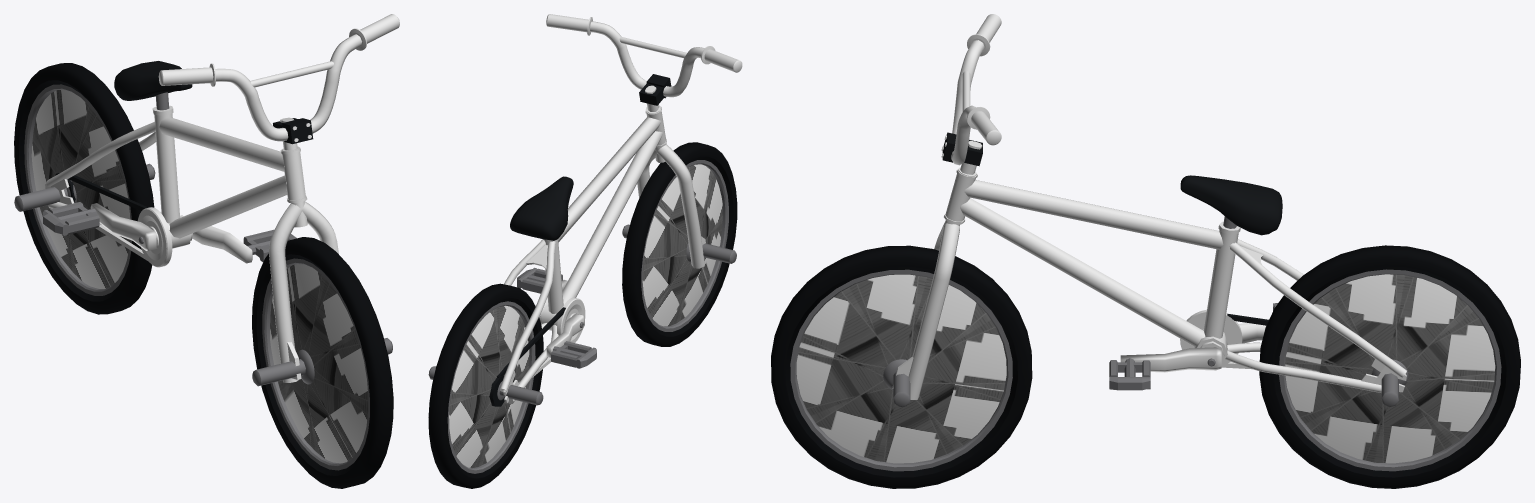
File: bmx1.fbx
3 renders of one model, left to right at view 1: azimuth 30°, elevation 25°; view 2: azimuth 150°, elevation 25°; view 3: azimuth 270°, elevation 25°, orthographic. The views are drawn at different scales.
Parts seen in each view (by area): view 1: spokes, spokes_4, tyre, tyre_2, forks_2, Spline_sweep, rim_2, rim, downtube, crosstube, seattube, seat (+13 smaller); view 2: spokes_4, spokes, tyre, tyre_2, downtube, seat, crosstube, forks_2, rim, Spline_sweep_3, Spline_sweep, rim_2 (+12 smaller); view 3: spokes, spokes_3, tyre_2, tyre, downtube, crosstube, rim, rim_2, seat, forks_2, Spline_sweep_3, seattube (+7 smaller).
Boxes of the visible parts, box(x1,y1,x2,y2) form: spokes: box(270, 264, 368, 463); spokes_4: box(31, 90, 130, 288); tyre: box(252, 237, 393, 488); tyre_2: box(14, 63, 154, 314); forks_2: box(269, 201, 338, 382); Spline_sweep: box(215, 34, 361, 141); rim_2: box(24, 84, 131, 295); rim: box(262, 258, 369, 470); downtube: box(169, 175, 287, 238); crosstube: box(159, 117, 284, 171); seattube: box(152, 105, 180, 223); seat: box(114, 61, 192, 100); spokes_4: box(449, 305, 529, 468); spokes: box(642, 164, 722, 326); tyre: box(622, 142, 737, 346); tyre_2: box(428, 283, 543, 488); downtube: box(562, 131, 662, 305); seat: box(510, 176, 573, 240); crosstube: box(558, 117, 661, 242); forks_2: box(637, 144, 704, 268); rim: box(641, 160, 728, 331); Spline_sweep_3: box(500, 239, 555, 390); Spline_sweep: box(590, 21, 704, 97); rim_2: box(447, 301, 535, 473); spokes: box(796, 274, 1006, 463); spokes_3: box(1285, 274, 1495, 463); tyre_2: box(1259, 245, 1520, 488); tyre: box(771, 245, 1032, 488); downtube: box(960, 198, 1205, 346); crosstube: box(964, 180, 1223, 249); rim: box(790, 269, 1012, 471); rim_2: box(1279, 269, 1501, 471); seat: box(1180, 175, 1282, 235); forks_2: box(908, 222, 959, 399); Spline_sweep_3: box(1229, 239, 1406, 377); seattube: box(1203, 221, 1240, 338).
Size of the model in its own units: 162 by 263 by 430.
4 materials, 1 textured.
